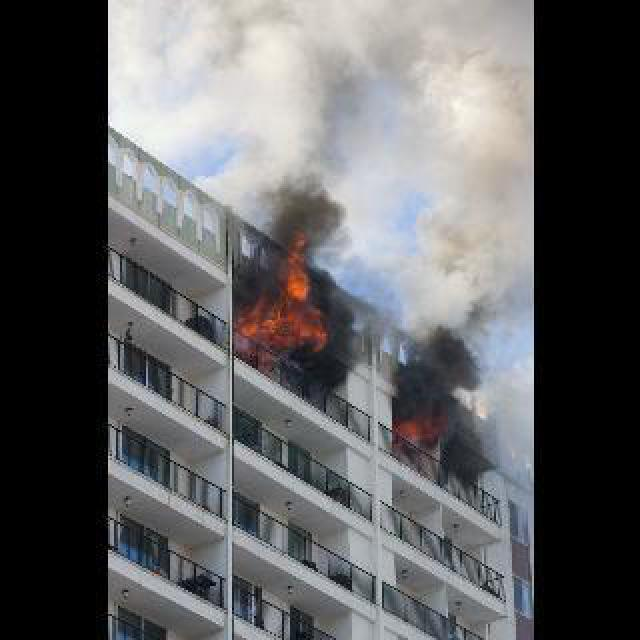smoke: (388, 324, 484, 414), (326, 280, 376, 394)
zfire: (232, 94, 376, 278), (238, 228, 324, 378), (378, 414, 444, 450)
